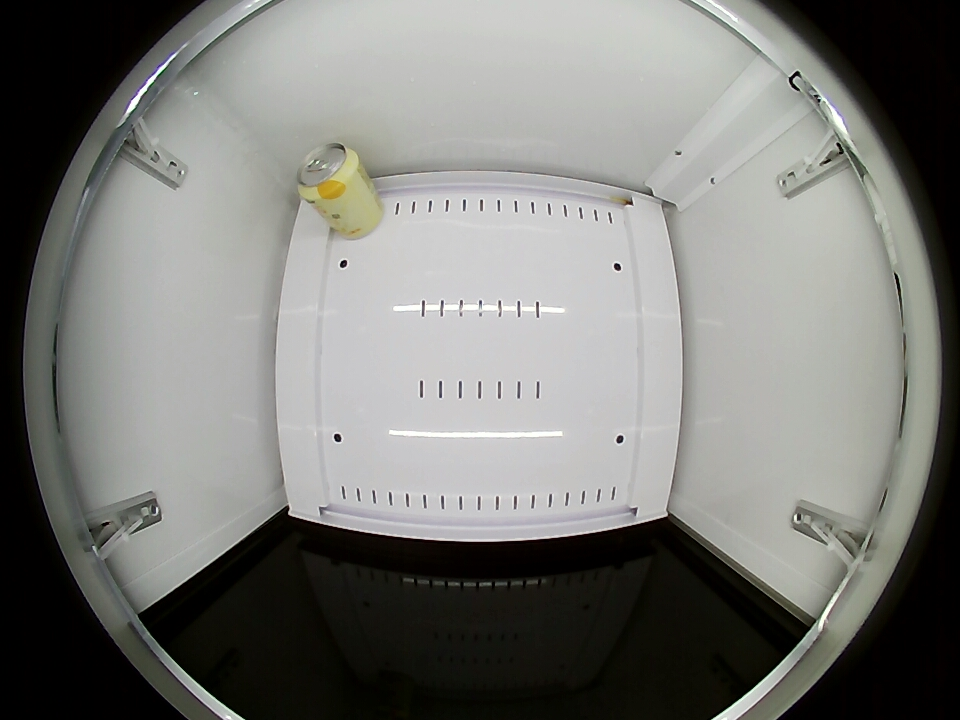mangguoxiaolao: (296, 142, 361, 204)
